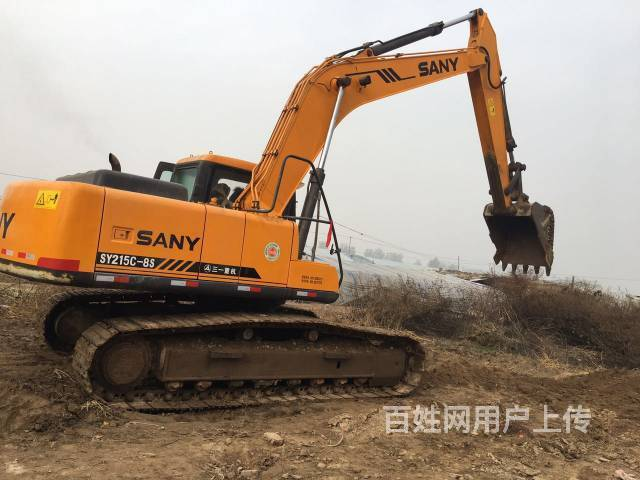excavator: (1, 3, 559, 442)
